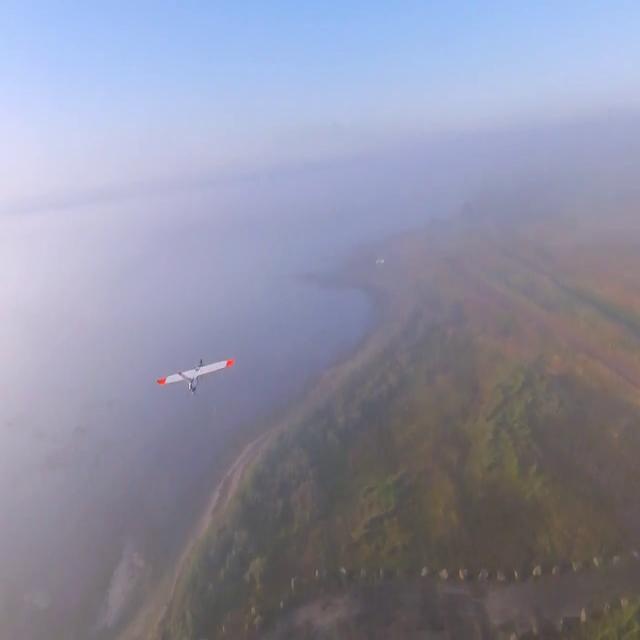iha: (188, 355, 204, 399)
